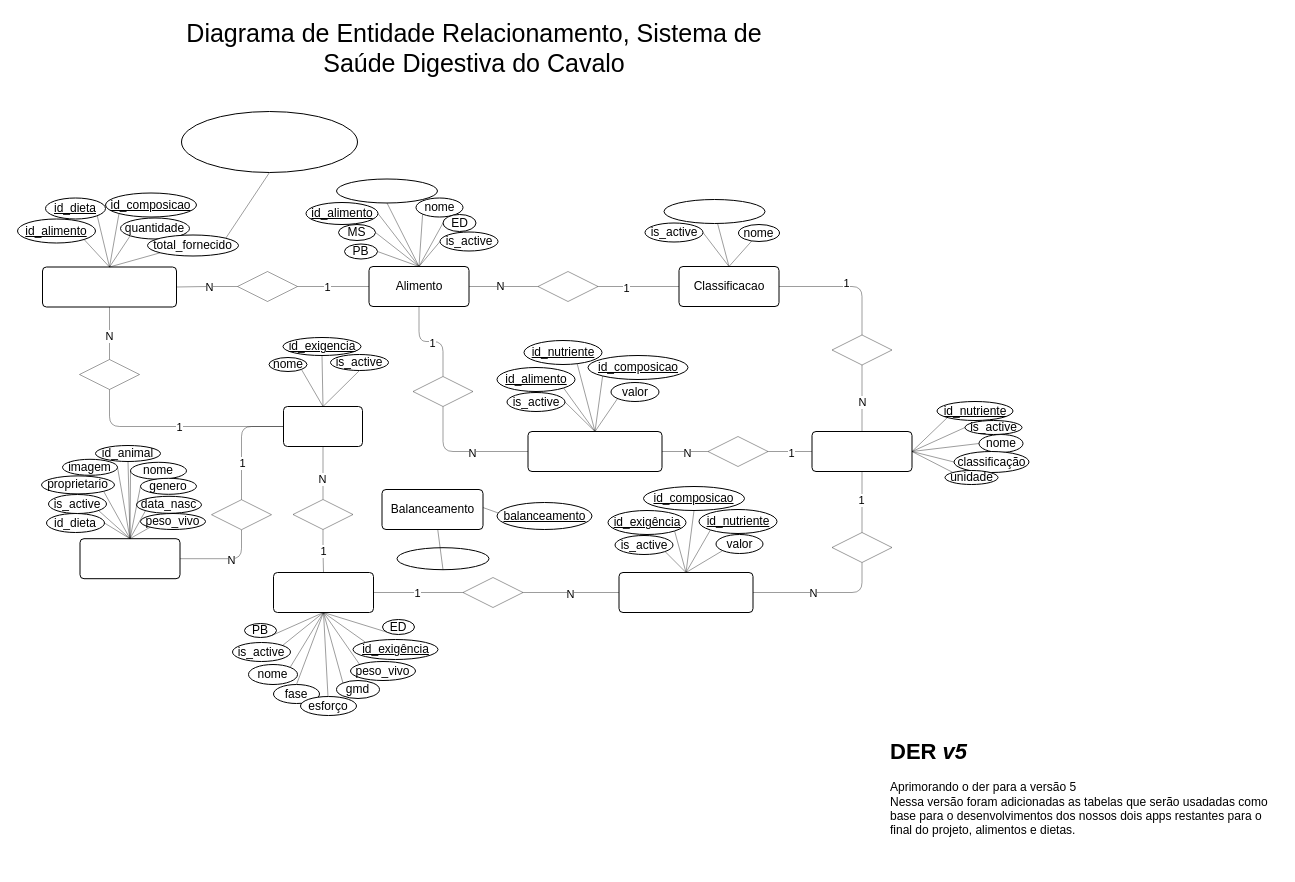
The diagram is 1295 pixels wide and 882 high, and some of its shapes have lost their labels. Here are the shapes that lost their labels. From the top down, the centre of each, then its label:
At point (269, 141): "qtd * composição nutricional (tabela composição alimento)".
At point (387, 190): "id_classificação".
At point (714, 211): "id_classificacao".
At point (109, 286): "ComposiçãoDieta".
At point (322, 426): "Dieta".
At point (594, 451): "ComposiçãoAlimento".
At point (861, 451): "Nutriente".
At point (129, 558): "Animal".
At point (442, 558): "id_totalfornecido".
At point (323, 592): "Exigência".
At point (685, 592): "ComposiçãoExigência".
